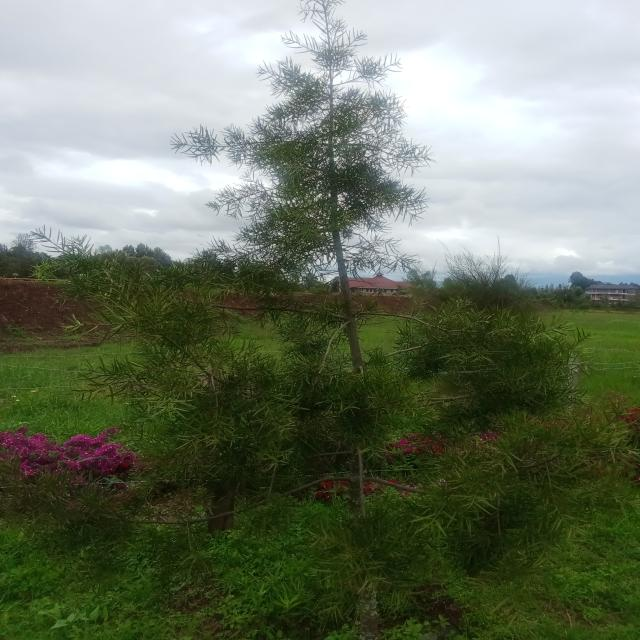Podocarpus falcatus: (22, 7, 640, 616)
